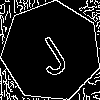J: (26, 26, 72, 79)
